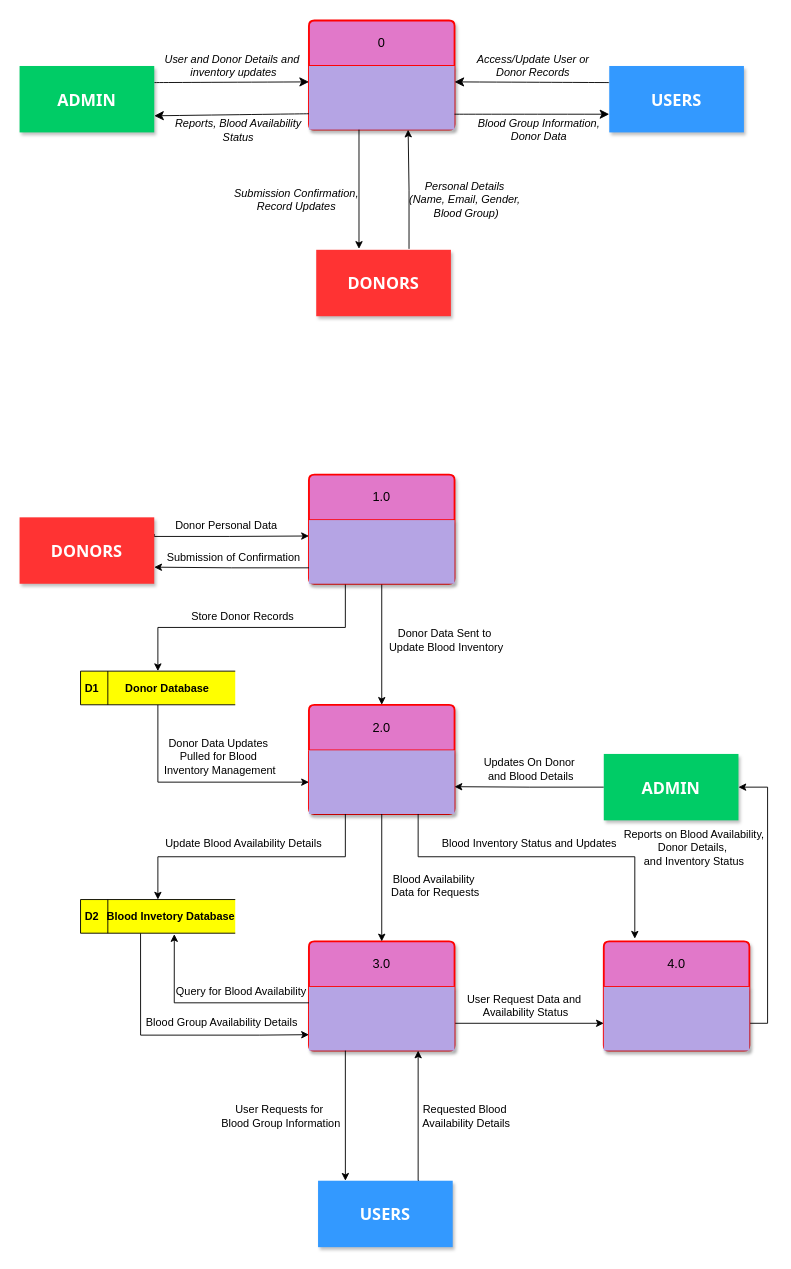
The diagram is 791 pixels wide and 1269 high, and some of its shapes have lost their labels. Each missing label, with the centre of its shape:
"AVAILABILITY REPORTS" belongs at (677,1020).
"BLOOD BANK MANAGEMENT SYSTEM" belongs at (382,99).
"MANAGE BLOOD INVENTORY" belongs at (382,783).
"MANAGE DONOR REGISTRATION" belongs at (382,553).
"PROCESS USER REQUESTS" belongs at (382,1020).
